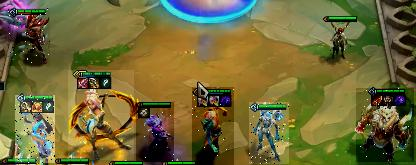1_karma: (324, 16, 356, 62)
1_yasuo: (136, 102, 174, 162)
2_kaisa: (249, 102, 289, 164)
2_nilah: (15, 95, 55, 163)
2_sett: (8, 8, 50, 66)
2_volibear: (356, 88, 414, 162)
3_leesin: (192, 87, 234, 165)
3_qiyana: (68, 70, 134, 160)
